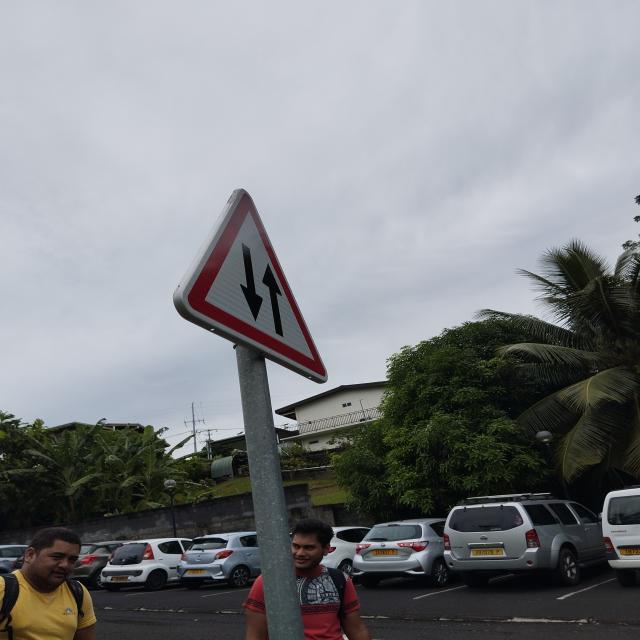Double-Sens: (173, 185, 334, 385)
